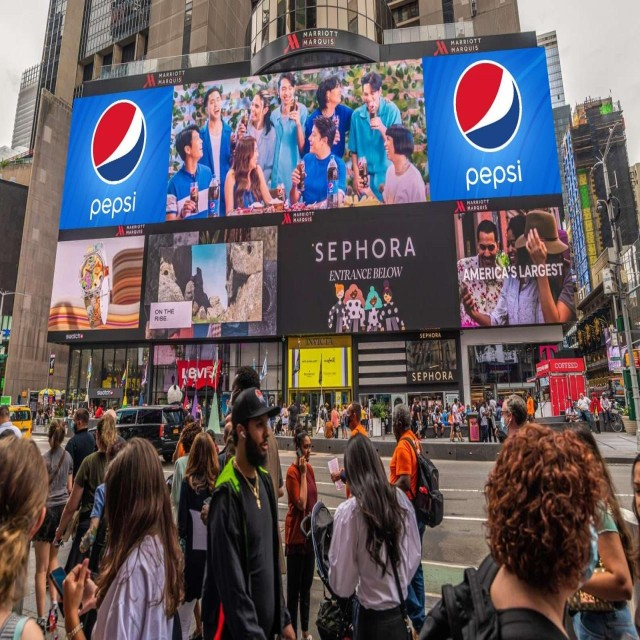pepsi: (455, 59, 524, 151), (90, 99, 146, 188), (328, 182, 334, 192)
